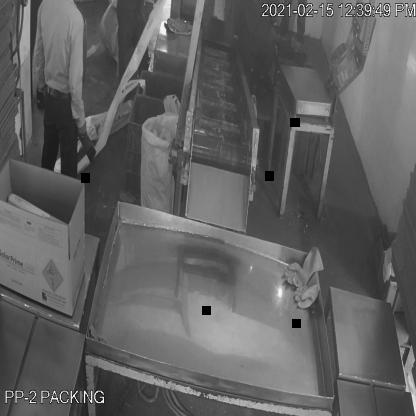glove: (277, 246, 328, 316)
no_glove: (69, 11, 91, 142)
